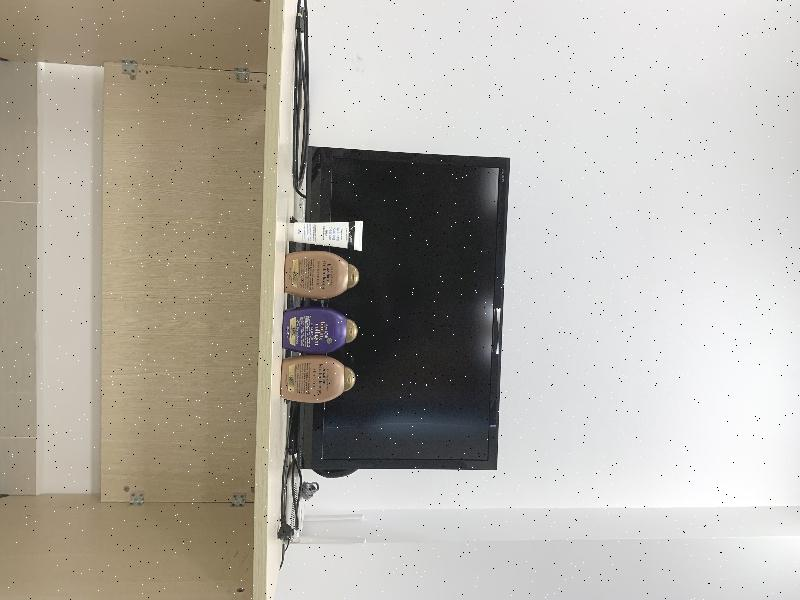BiotinCollagen_Shampoo: (282, 309, 358, 354)
BrazilianKeratinTherapy_Shampoo: (282, 356, 355, 403)
BrazilianKerationTherapy_Conditioner: (285, 251, 359, 299)
HydratingFoamingCleanser: (286, 222, 363, 251)
